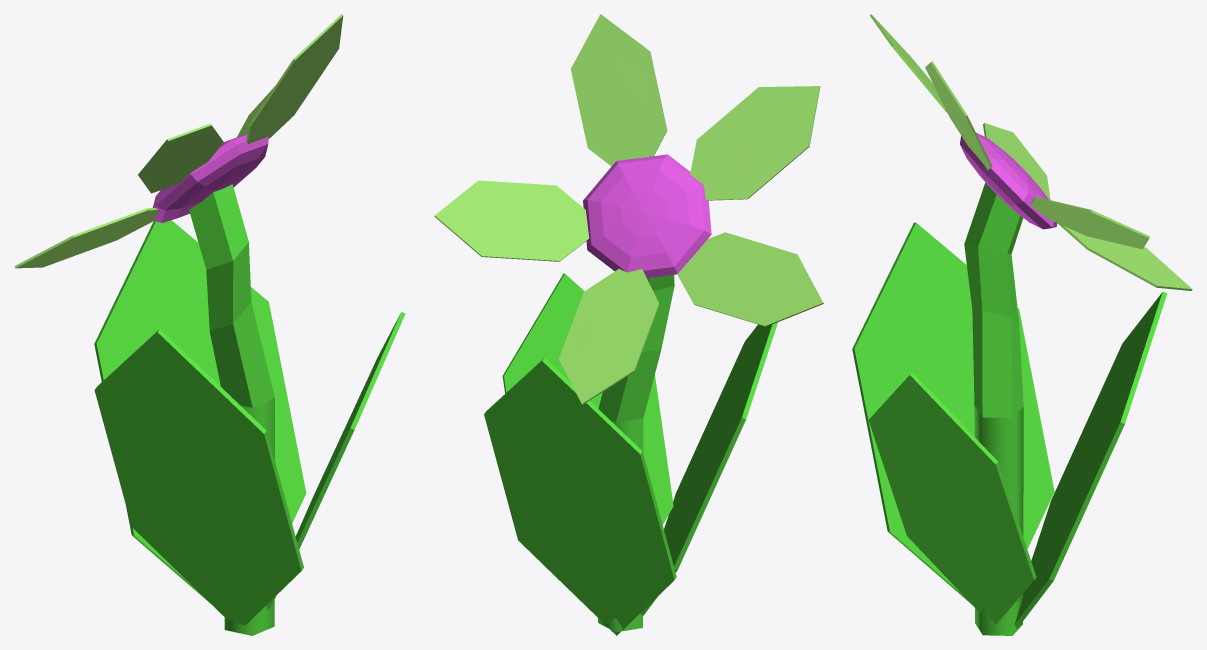
The model's file is big_flower3.fbx.
The picture shows the model from 3 angles, left to right: view 1: azimuth 30°, elevation 25°; view 2: azimuth 150°, elevation 25°; view 3: azimuth 270°, elevation 25°; orthographic projection. The views are drawn at different scales.
Parts seen in each view (by area): view 1: Cylinder; view 2: Cylinder; view 3: Cylinder.
Boxes of the visible parts, x1,y1,x2,y2 form: Cylinder: [14, 14, 405, 635]; Cylinder: [434, 14, 823, 635]; Cylinder: [852, 14, 1192, 635].
Bounding box in the file's own units: 133 × 224 × 115.
